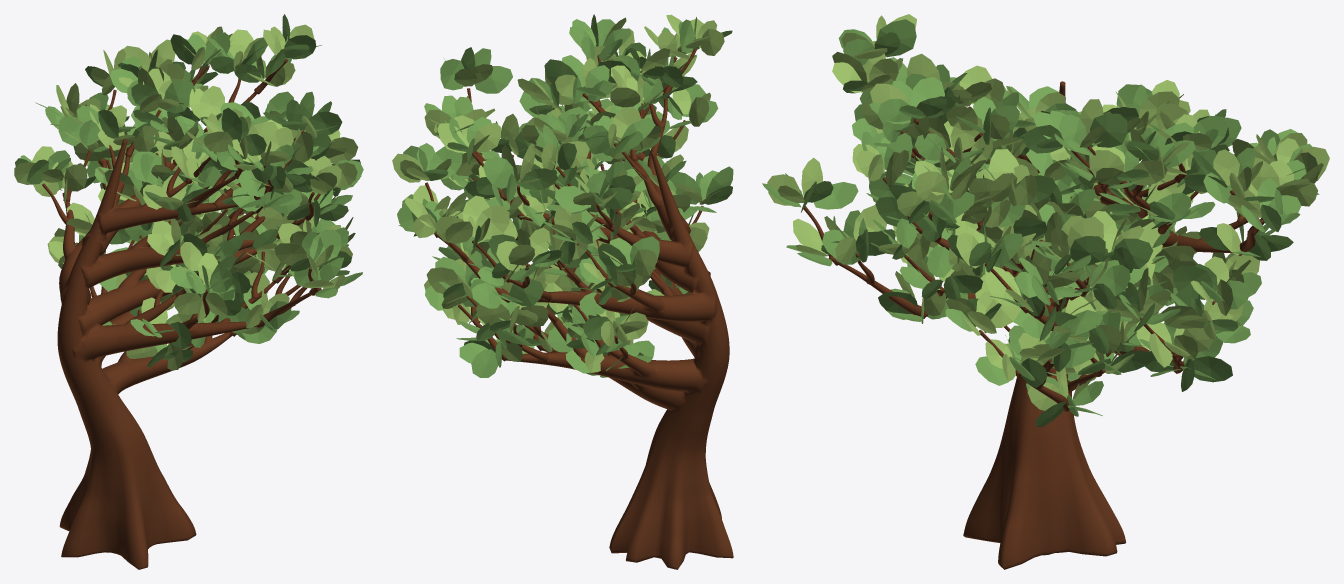
File: Tree_Wind_Swept_LOD0.fbx
3 renders of one model, left to right at view 1: azimuth 30°, elevation 25°; view 2: azimuth 150°, elevation 25°; view 3: azimuth 270°, elevation 25°, orthographic. The views are drawn at different scales.
Parts seen in each view (by area): view 1: Tree_Wind_Swept_Foliage_LOD0_FBX_Triangulated, Tree_Wind_Swept_Bark_LOD0_FBX_Triangulated; view 2: Tree_Wind_Swept_Foliage_LOD0_FBX_Triangulated, Tree_Wind_Swept_Bark_LOD0_FBX_Triangulated; view 3: Tree_Wind_Swept_Foliage_LOD0_FBX_Triangulated, Tree_Wind_Swept_Bark_LOD0_FBX_Triangulated.
Part boxes in pixels (left/top/right/bottom): Tree_Wind_Swept_Foliage_LOD0_FBX_Triangulated: left=14, top=14, right=363, bottom=370; Tree_Wind_Swept_Bark_LOD0_FBX_Triangulated: left=42, top=59, right=321, bottom=569; Tree_Wind_Swept_Foliage_LOD0_FBX_Triangulated: left=392, top=14, right=733, bottom=377; Tree_Wind_Swept_Bark_LOD0_FBX_Triangulated: left=425, top=48, right=733, bottom=569; Tree_Wind_Swept_Foliage_LOD0_FBX_Triangulated: left=762, top=14, right=1329, bottom=426; Tree_Wind_Swept_Bark_LOD0_FBX_Triangulated: left=803, top=81, right=1264, bottom=569.
Bounding box in the file's own units: 3.71 × 5.54 × 5.17.
